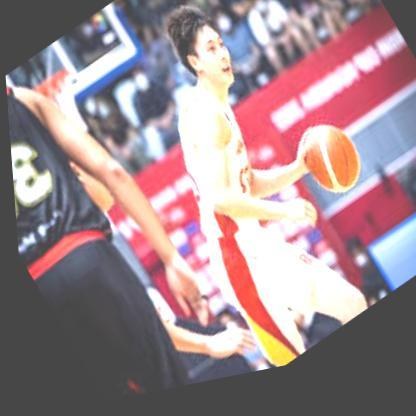basketball: (290, 123, 369, 220)
